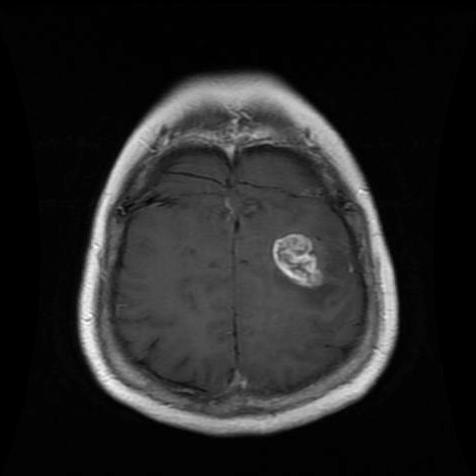Tumour-Glioma: (275, 233, 326, 288)
